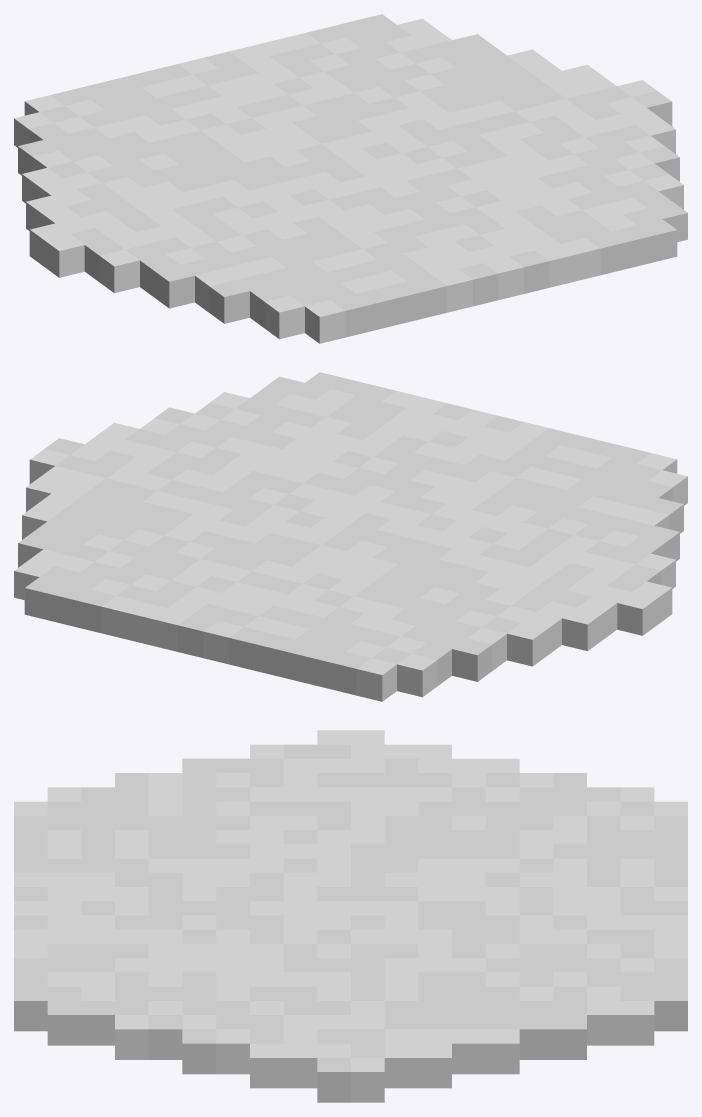
File: overworld-14-snow_1px.obj
The picture shows the model from 3 angles, top to bottom: view 1: azimuth 30°, elevation 25°; view 2: azimuth 150°, elevation 25°; view 3: azimuth 270°, elevation 25°; orthographic projection. The views are drawn at different scales.
Visible parts, largest first — view 1: snow_1px; view 2: snow_1px; view 3: snow_1px.
Part boxes in pixels (x1,y1,x2,y2): snow_1px: [14, 14, 687, 343]; snow_1px: [14, 372, 687, 701]; snow_1px: [14, 730, 687, 1102].
Size of the model in its own units: 2.4 by 0.1 by 2.
1 material, 1 textured.
